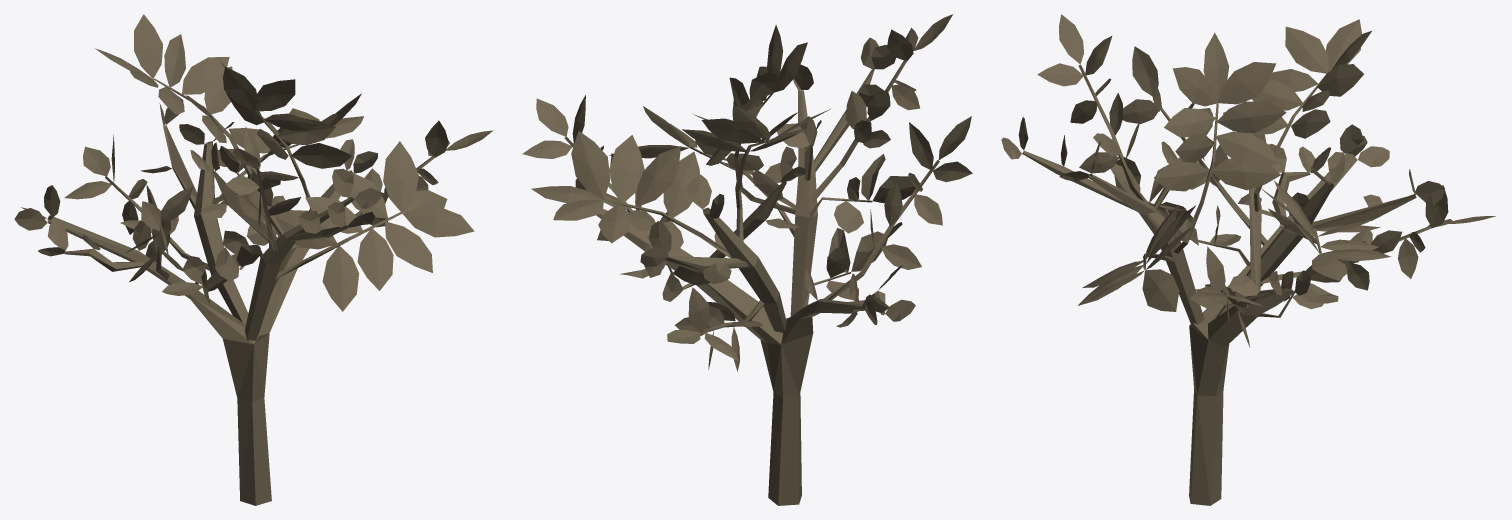
Rendered from Cherry_6_3.fbx.
3 views of the same model, side by side, from view 1: azimuth 30°, elevation 25°; view 2: azimuth 150°, elevation 25°; view 3: azimuth 270°, elevation 25° (orthographic). The views are drawn at different scales.
Parts seen in each view (by area): view 1: Cherry_6_3; view 2: Cherry_6_3; view 3: Cherry_6_3.
Boxes of the visible parts, x1,y1,x2,y2 form: Cherry_6_3: (14,14,493,505); Cherry_6_3: (522,14,972,505); Cherry_6_3: (1001,14,1495,505).
Size of the model in its own units: 353 by 364 by 361.
